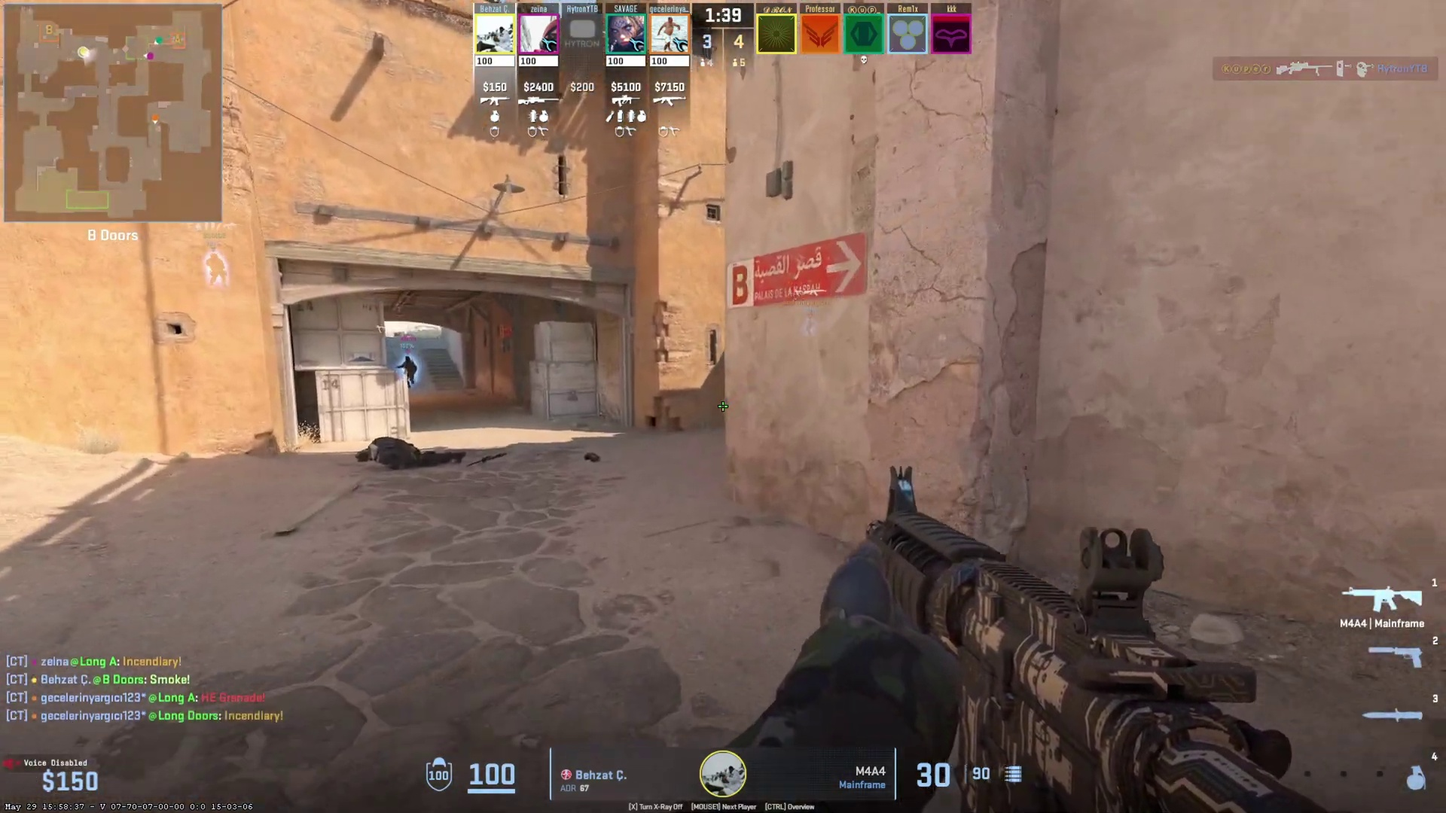CT: (400, 355, 415, 388)
